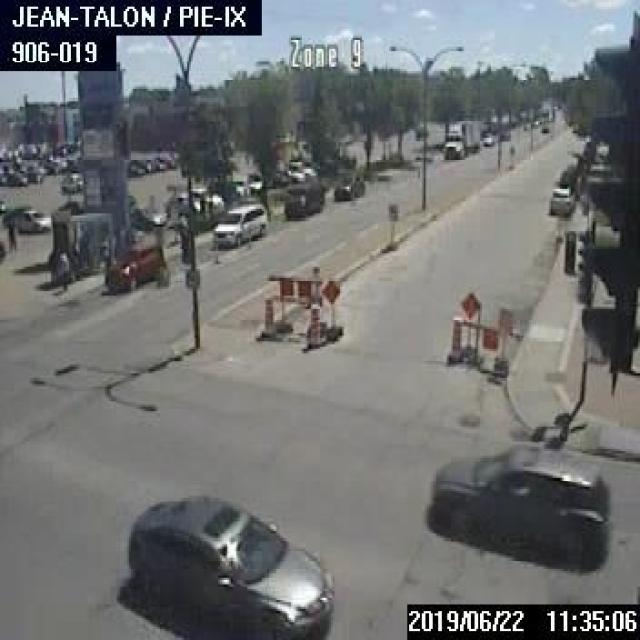construction: (265, 264, 343, 339), (459, 289, 513, 376), (445, 315, 463, 361), (302, 303, 320, 346), (259, 296, 274, 338)
pedestrian: (53, 242, 69, 291), (5, 218, 14, 250)
vehicle: (122, 491, 336, 638), (424, 442, 611, 561), (100, 242, 167, 294), (209, 200, 267, 247), (282, 173, 324, 220), (442, 119, 479, 157), (1, 204, 50, 230), (333, 169, 363, 199), (128, 204, 164, 228), (548, 183, 575, 214), (174, 191, 207, 211), (190, 186, 221, 206), (288, 160, 318, 177), (234, 174, 260, 193), (61, 171, 84, 191), (0, 171, 24, 185), (154, 153, 174, 167), (129, 157, 150, 170), (144, 157, 164, 169), (126, 162, 143, 175), (231, 182, 248, 195), (285, 168, 303, 180), (480, 130, 494, 145), (497, 126, 509, 139)
